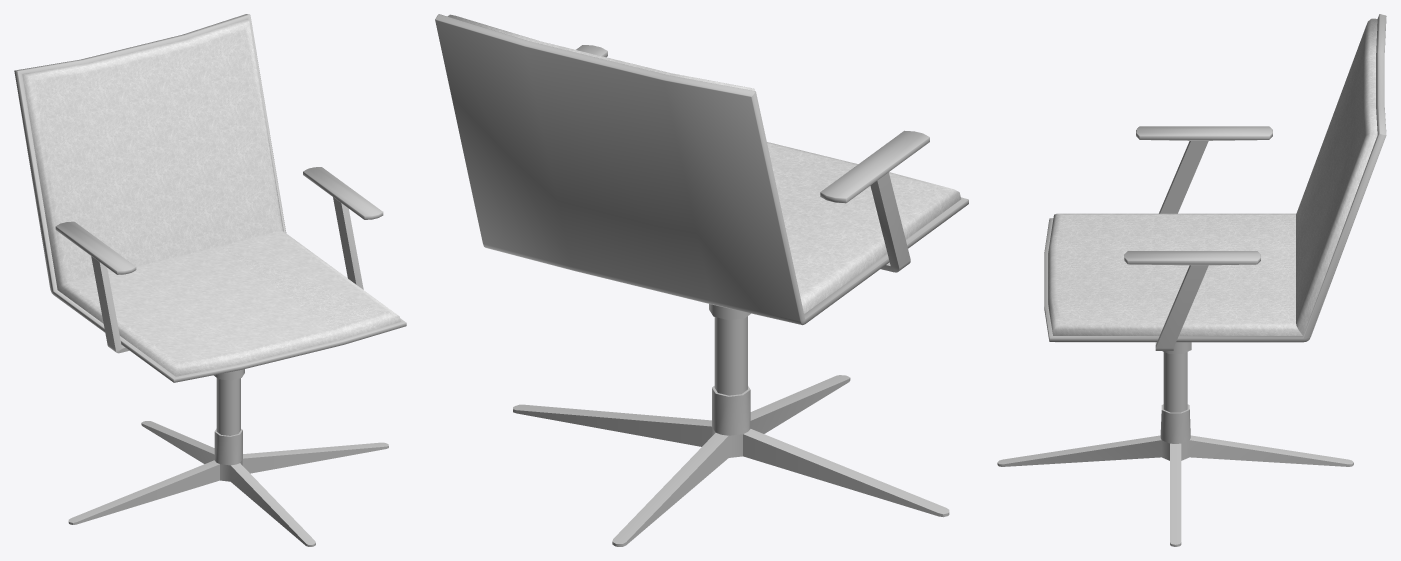
The model's file is D_Chair_004.fbx.
3 views of the same model, side by side, from view 1: azimuth 30°, elevation 25°; view 2: azimuth 150°, elevation 25°; view 3: azimuth 270°, elevation 25° (orthographic). The views are drawn at different scales.
Visible parts, largest first — view 1: D_Chair_004; view 2: D_Chair_004; view 3: D_Chair_004.
Boxes of the visible parts, x1,y1,x2,y2 form: D_Chair_004: (14,14,406,546); D_Chair_004: (435,14,968,546); D_Chair_004: (997,14,1386,546).
Bounding box in the file's own units: 0.9004 × 1 × 0.9003.
